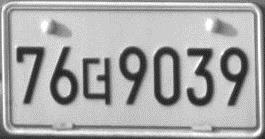0: (152, 46, 182, 107)
3: (184, 47, 215, 106)
6: (48, 45, 78, 106)
7: (14, 44, 47, 104)
9: (117, 44, 149, 106), (218, 46, 250, 107)
더: (80, 57, 112, 107)
